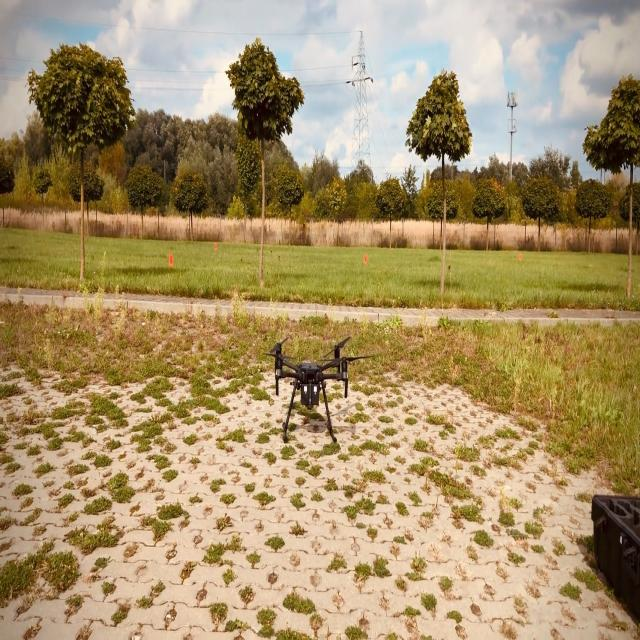drone: (266, 333, 376, 444)
